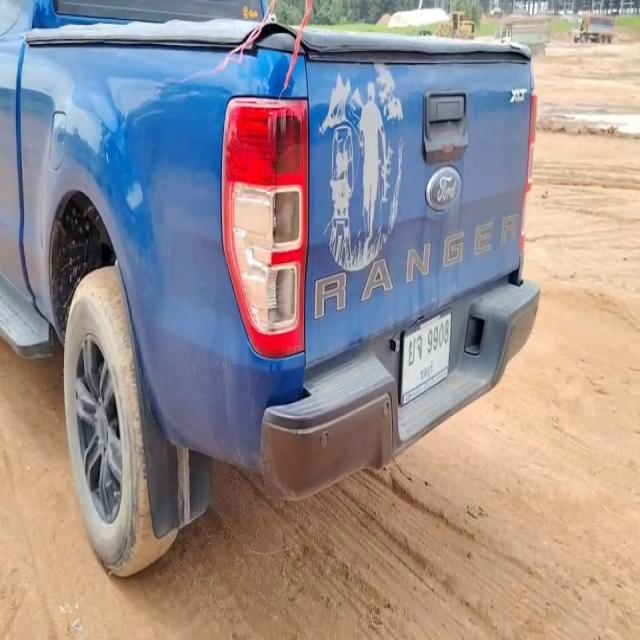Digit: (426, 317, 448, 354)
Licenseplate: (399, 306, 456, 408)
Provincename: (422, 358, 436, 382)
Thaichar: (408, 328, 423, 366)
